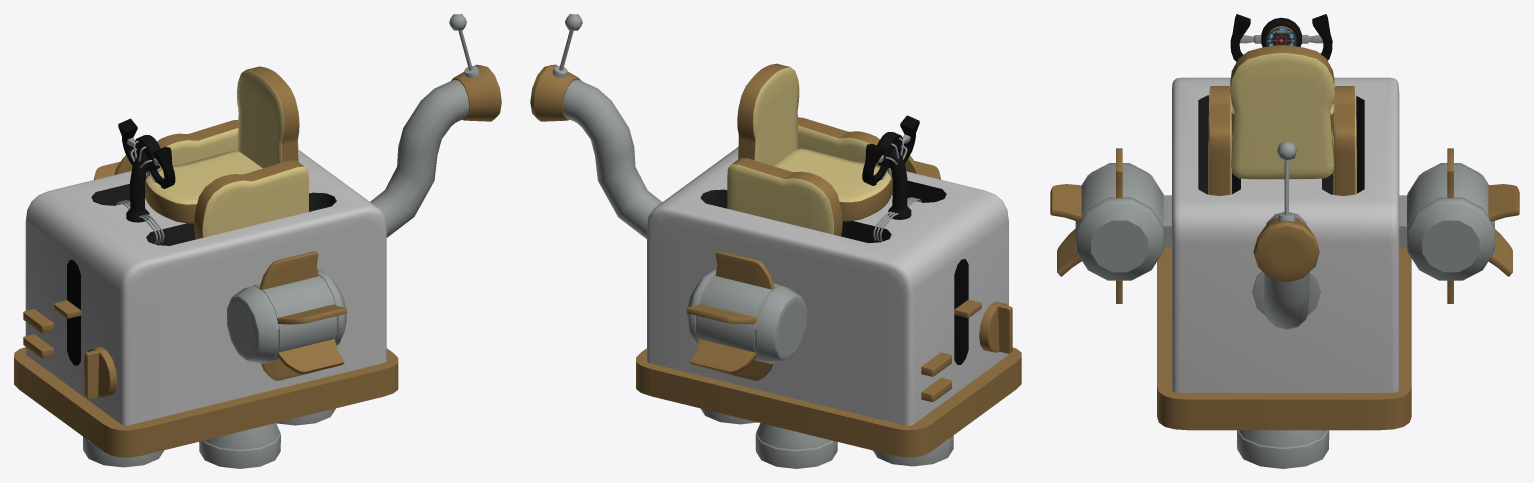
Rendered from ToasterShip.fbx.
3 renders of one model, left to right at view 1: azimuth 30°, elevation 25°; view 2: azimuth 150°, elevation 25°; view 3: azimuth 270°, elevation 25°, orthographic. The views are drawn at different scales.
Parts seen in each view (by area): view 1: ToasterBody, MechParts, ToastChair, Turbo, TurboSides, Motors, SteeringWheel, HoleFront, Antenna, CablesSteeringWheel; view 2: ToasterBody, MechParts, ToastChair, Turbo, TurboSides, Motors, SteeringWheel, HoleFront, Antenna, CablesSteeringWheel; view 3: ToasterBody, MechParts, TurboSides, ToastChair, Turbo, Motors, SteeringWheel, Antenna.
Part boxes in pixels (x1,y1,x2,y2): ToasterBody: (25, 149, 386, 425); MechParts: (14, 155, 398, 457); ToastChair: (145, 66, 308, 239); Turbo: (370, 64, 501, 237); TurboSides: (227, 269, 346, 363); Motors: (83, 408, 335, 468); SteeringWheel: (118, 118, 175, 222); HoleFront: (67, 260, 80, 365); Antenna: (449, 14, 479, 77); CablesSteeringWheel: (116, 140, 164, 244); ToasterBody: (647, 147, 1008, 425); MechParts: (636, 156, 1021, 457); ToastChair: (727, 63, 892, 236); Turbo: (530, 64, 662, 238); TurboSides: (687, 269, 807, 363); Motors: (700, 408, 953, 468); SteeringWheel: (862, 115, 919, 219); HoleFront: (954, 259, 968, 364); Antenna: (552, 14, 582, 77); CablesSteeringWheel: (873, 137, 921, 241); ToasterBody: (1172, 77, 1399, 392); MechParts: (1050, 148, 1519, 430); TurboSides: (1075, 163, 1494, 280); ToastChair: (1208, 45, 1356, 195); Turbo: (1252, 212, 1320, 329); Motors: (1237, 430, 1329, 468); SteeringWheel: (1230, 14, 1332, 61); Antenna: (1277, 141, 1296, 221).
Size of the model in its own units: 13.19 by 10.22 by 10.92.
8 materials, 1 textured.
